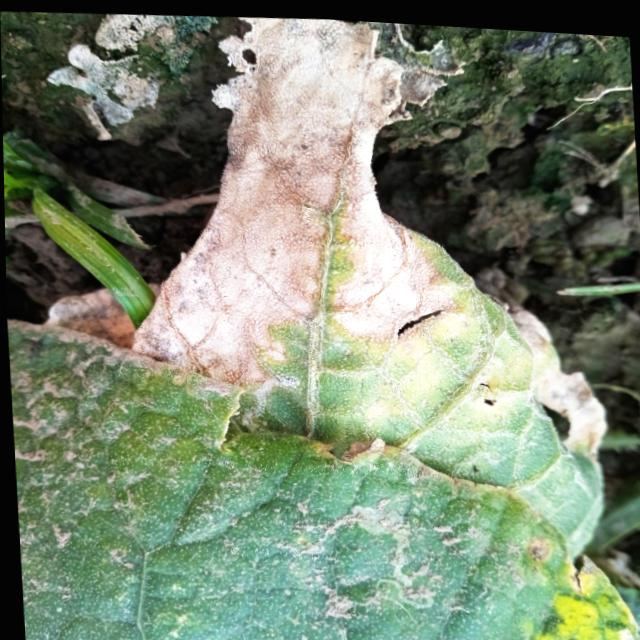Gummy-Stem-Blight: (110, 7, 472, 398)
